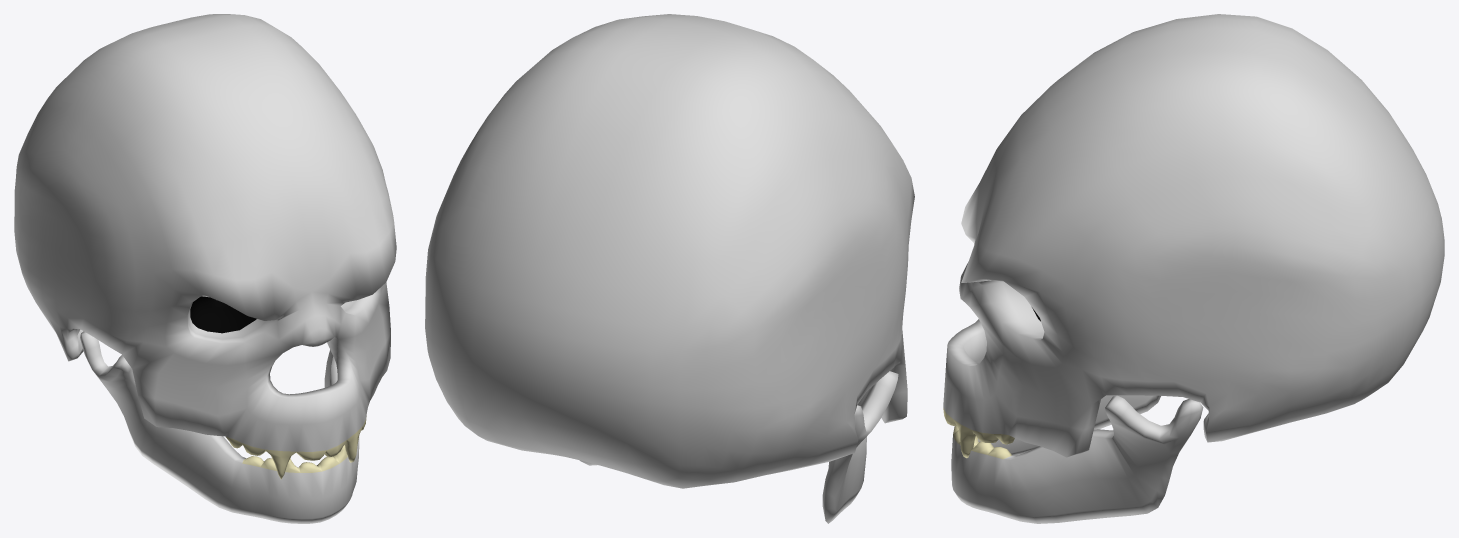
File: skull.glb
The picture shows the model from 3 angles, left to right: view 1: azimuth 30°, elevation 25°; view 2: azimuth 150°, elevation 25°; view 3: azimuth 270°, elevation 25°; orthographic projection. The views are drawn at different scales.
Parts seen in each view (by area): view 1: skull; view 2: skull; view 3: skull.
Boxes of the visible parts, left/top/right/bottom form: skull: left=14, top=14, right=396, bottom=523; skull: left=425, top=14, right=914, bottom=523; skull: left=943, top=14, right=1444, bottom=523.
Size of the model in its own units: 0.1786 by 0.2376 by 0.238.
